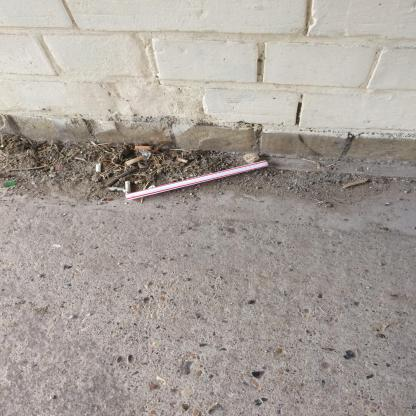plastik: (127, 161, 271, 202)
